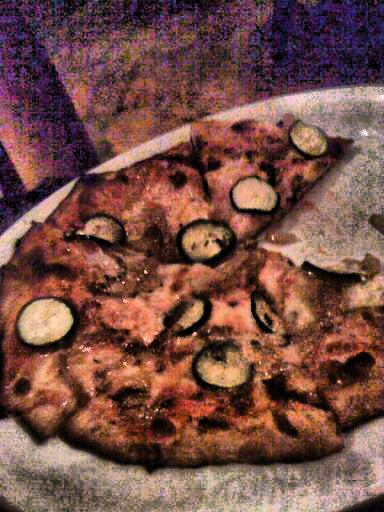pizza: (5, 106, 383, 442)
